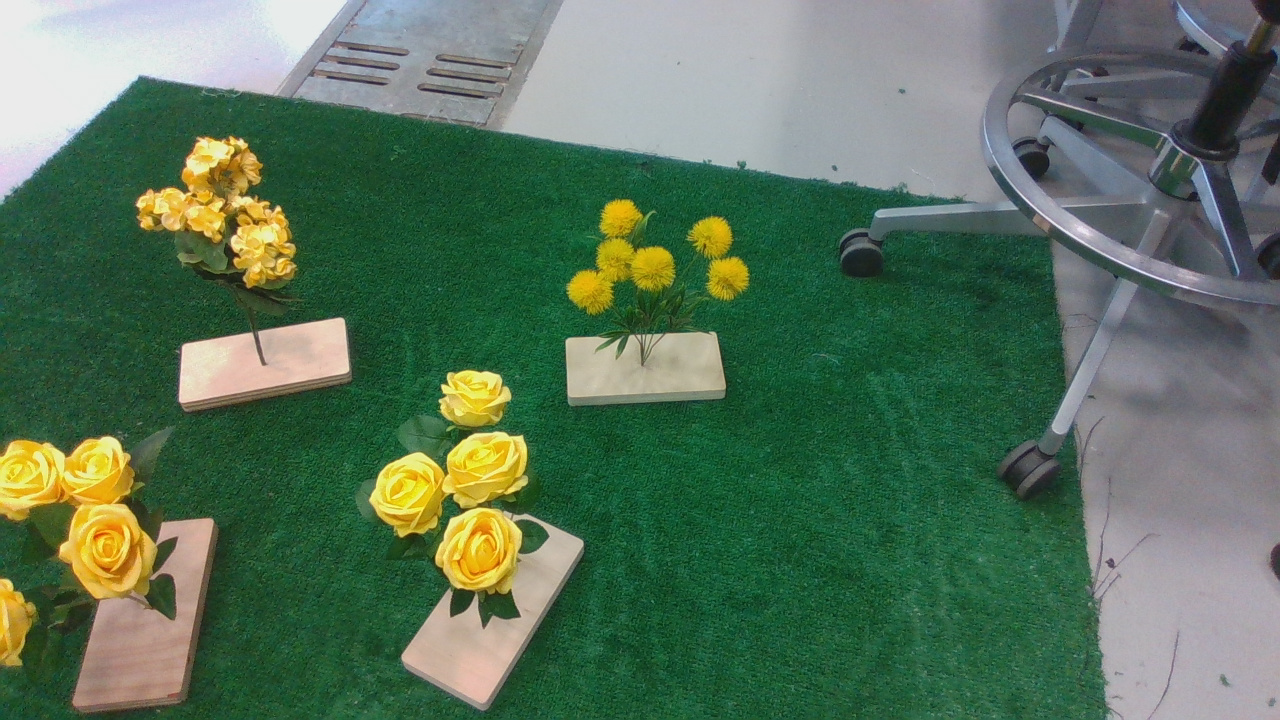dandelion: (562, 197, 758, 374)
geranium: (136, 139, 327, 319)
rose: (353, 373, 561, 641), (3, 425, 193, 692)
